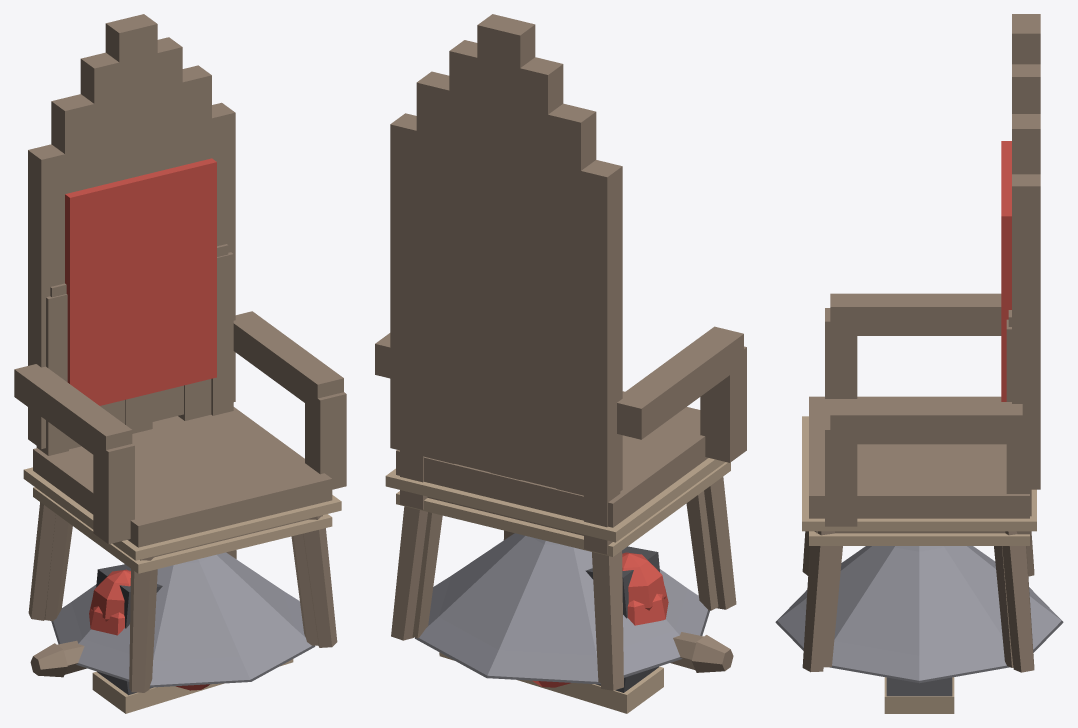
The model's file is props.glb.
The picture shows the model from 3 angles, left to right: view 1: azimuth 30°, elevation 25°; view 2: azimuth 150°, elevation 25°; view 3: azimuth 270°, elevation 25°; orthographic projection. The views are drawn at different scales.
Parts seen in each view (by area): view 1: PropThrone, PropLamp, PropChair, PropShoe, PropRose, PropGavel; view 2: PropThrone, PropLamp, PropChair, PropShoe, PropRose, PropGavel; view 3: PropThrone, PropLamp, PropChair, PropShoe.
Part boxes in pixels (x1,y1,x2,y2): PropThrone: [14, 14, 346, 692]; PropLamp: [51, 552, 315, 687]; PropChair: [33, 244, 332, 684]; PropShoe: [92, 564, 293, 713]; PropRose: [89, 569, 130, 635]; PropGavel: [30, 640, 86, 677]; PropThrone: [375, 14, 746, 690]; PropLamp: [415, 533, 709, 684]; PropChair: [396, 450, 730, 682]; PropShoe: [439, 546, 663, 713]; PropRose: [622, 552, 668, 625]; PropGavel: [670, 632, 733, 672]; PropThrone: [802, 14, 1040, 672]; PropLamp: [775, 546, 1063, 683]; PropChair: [809, 310, 1031, 667]; PropShoe: [884, 677, 954, 713].
Bounding box in the file's own units: 0.905 × 2.03 × 0.81.
